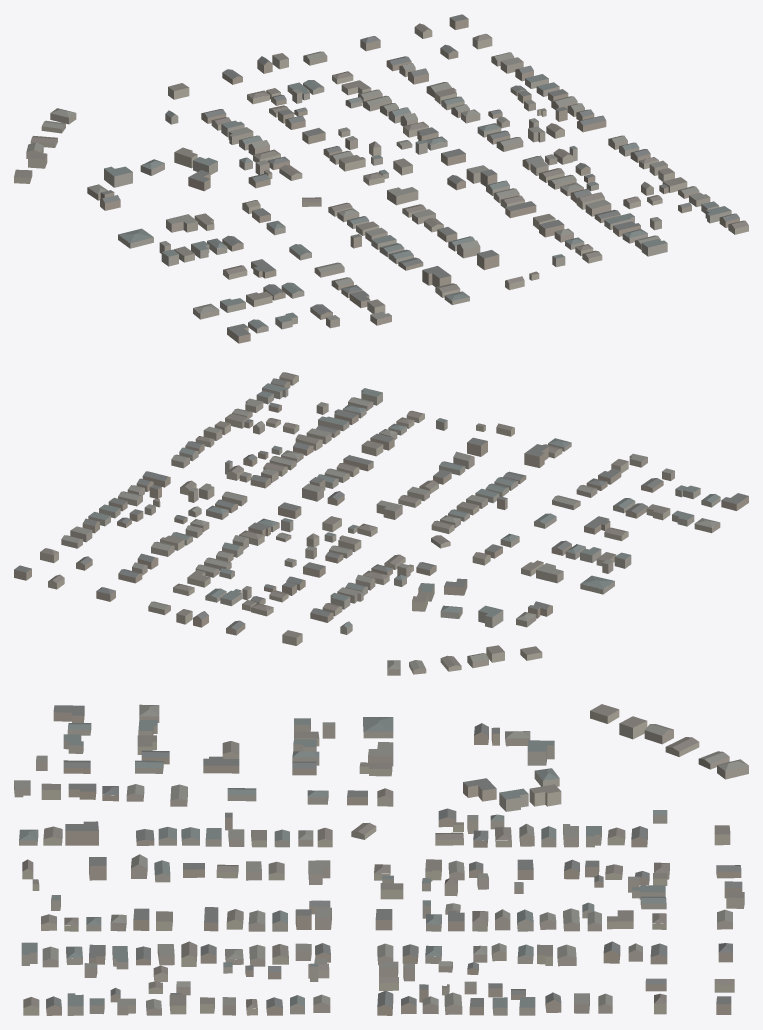
The model's file is f8b41674c5fa-chunk-1197_11843.glb.
3 renders of one model, top to bottom at view 1: azimuth 30°, elevation 25°; view 2: azimuth 150°, elevation 25°; view 3: azimuth 270°, elevation 25°, orthographic. The views are drawn at different scales.
Visible parts, largest first — view 1: no part large enough to name; view 2: no part large enough to name; view 3: building_112347, building_46471, building_95237, building_75354, building_55076, building_83132, building_85547, building_51707, building_80425.
Boxes of the visible parts, x1=… form: building_112347: x1=65, y1=821, x2=98, y2=845; building_46471: x1=363, y1=717, x2=393, y2=738; building_95237: x1=527, y1=740, x2=554, y2=765; building_75354: x1=529, y1=784, x2=561, y2=806; building_55076: x1=463, y1=778, x2=496, y2=801; building_83132: x1=203, y1=756, x2=239, y2=773; building_85547: x1=499, y1=788, x2=528, y2=811; building_51707: x1=53, y1=705, x2=84, y2=722; building_80425: x1=308, y1=860, x2=330, y2=884.
Size of the model in its own units: 385 by 9.35 by 393.
